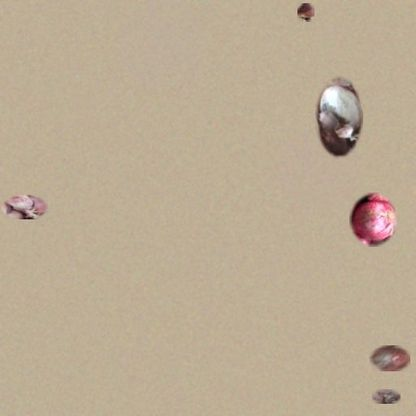damaged: (370, 345, 410, 371)
healthy: (349, 193, 397, 247)
rotten: (315, 76, 363, 159), (372, 389, 401, 404)
sprouted: (2, 195, 48, 219), (297, 3, 314, 22)
